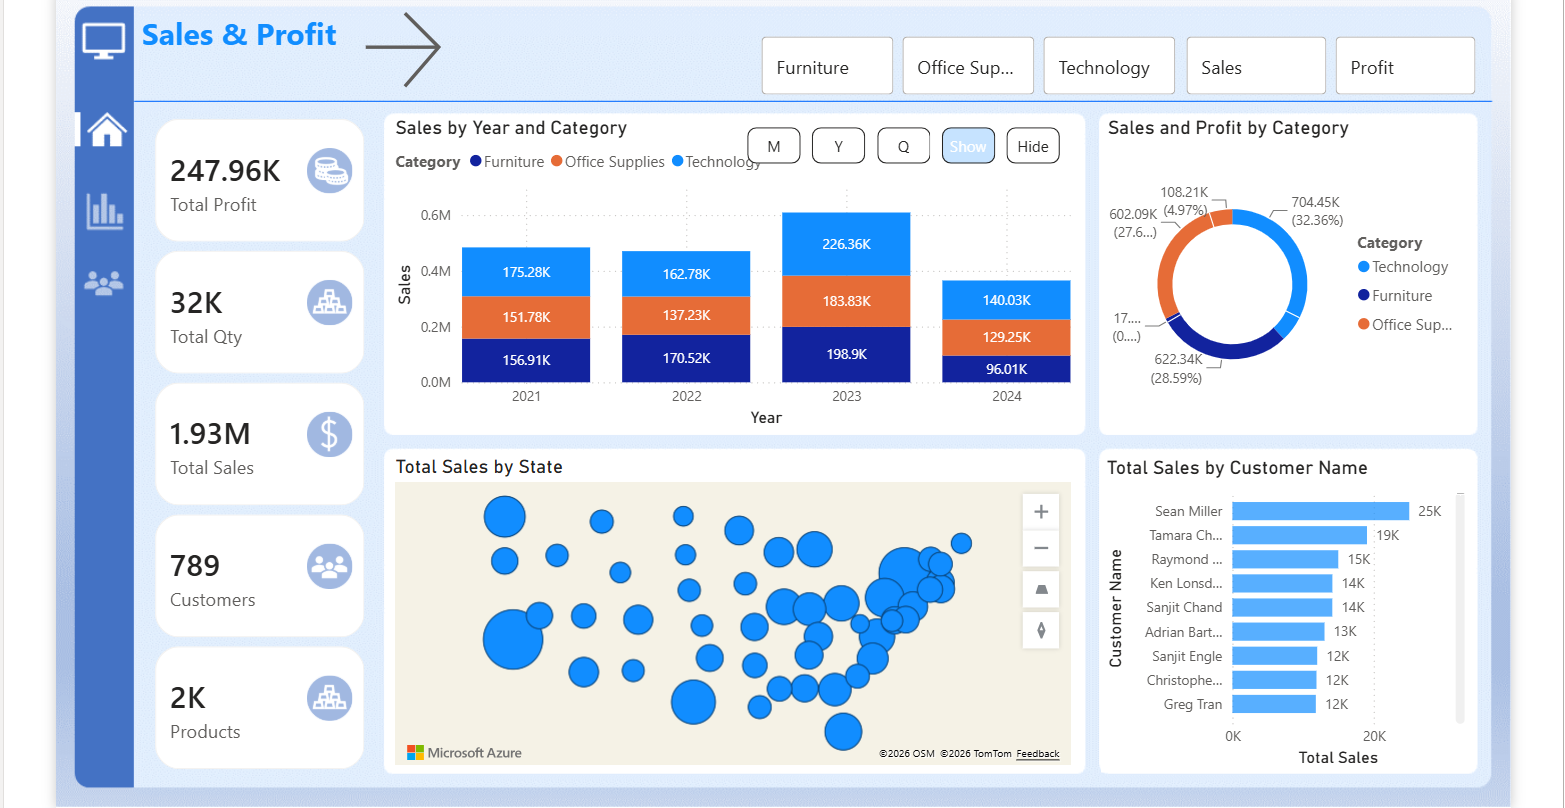

The dashboard page shown, as its layout file describes it:
{"tool":"powerbi","page":{"name":"OverView","canvas":[1280,720],"ordinal":0},"visuals":[{"type":"cardVisual","fields":{"Data":["Measures (2).Total Profit","Measures (2).Total Qty","Measures (2).Total Sales","Measures (2).Customers","Measures (2).Products"]},"box":[70,95.7,218.6,607.1],"z":0},{"type":"columnChart","fields":{"Y":["Measures (2).Total Sales"],"Series":["Dim Product.Category"],"Category":["DimDate.Year Hierarchy.Year","DimDate.Year Hierarchy.Qtr","DimDate.Year Hierarchy.Month"]},"box":[294,110,604,278],"z":1000},{"type":"donutChart","fields":{"Y":["Measures (2).Total Sales","Measures (2).Total Profit"],"Category":["Dim Product.Category"]},"box":[920,110,324.3,277.1],"z":2000},{"type":"clusteredBarChart","fields":{"Y":["Measures (2).Total Sales"],"Category":["Dim Customer.Customer Name"]},"box":[919.4,408.9,325.2,278.6],"z":3000},{"type":"advancedSlicerVisual","fields":{"Values":["Parameter.Parameter"]},"box":[990,35.7,265.7,61.4],"z":4000},{"type":"bookmarkNavigator","box":[608.6,120,275.7,32.9],"z":5000},{"type":"azureMap","fields":{"Category":["Dim State.State"],"Size":["Measures (2).Total Sales"]},"box":[294,408,604,278],"z":6000},{"type":"actionButton","box":[264.3,11.4,182.9,81.4],"z":7000},{"type":"advancedSlicerVisual","fields":{"Values":["Dim Product.Category"]},"box":[615.7,35.7,374.3,61.4],"z":8000},{"type":"textbox","box":[70,14.3,224.3,78.6],"z":9000}]}

Visuals, with their boxes on the page's 1280x720 design canvas (x1, y1, x2, y2). These are canvas units, not pixel positions in the 1565x808 screenshot, which may show the page scaled, cropped or inside an application window:
cardVisual - Measures (2).Total Profit x Measures (2).Total Qty: [70, 96, 289, 703]
columnChart - Measures (2).Total Sales x Dim Product.Category: [294, 110, 898, 388]
donutChart - Measures (2).Total Sales x Measures (2).Total Profit: [920, 110, 1244, 387]
clusteredBarChart - Measures (2).Total Sales x Dim Customer.Customer Name: [919, 409, 1245, 688]
advancedSlicerVisual - Parameter.Parameter: [990, 36, 1256, 97]
bookmarkNavigator: [609, 120, 884, 153]
azureMap - Dim State.State x Measures (2).Total Sales: [294, 408, 898, 686]
actionButton: [264, 11, 447, 93]
advancedSlicerVisual - Dim Product.Category: [616, 36, 990, 97]
textbox: [70, 14, 294, 93]
